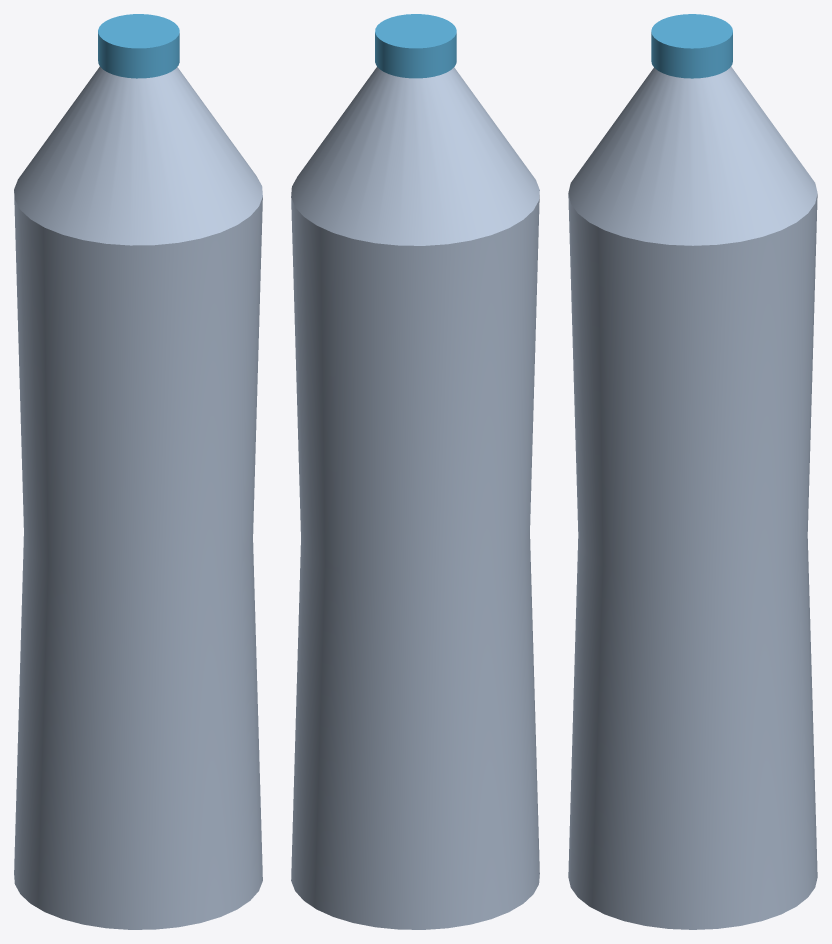
The model's file is nalynczowianka.fbx.
3 views of the same model, side by side, from view 1: azimuth 30°, elevation 25°; view 2: azimuth 150°, elevation 25°; view 3: azimuth 270°, elevation 25° (orthographic).
Visible parts, largest first — view 1: Walec, Walec.001; view 2: Walec, Walec.001; view 3: Walec, Walec.001.
Part boxes in pixels (left/top/right/bottom): Walec: left=14, top=66, right=262, bottom=929; Walec.001: left=98, top=14, right=179, bottom=78; Walec: left=291, top=67, right=539, bottom=929; Walec.001: left=375, top=14, right=456, bottom=78; Walec: left=568, top=66, right=817, bottom=929; Walec.001: left=651, top=14, right=732, bottom=78.
Size of the model in its own units: 3.71 by 13.88 by 3.71.
